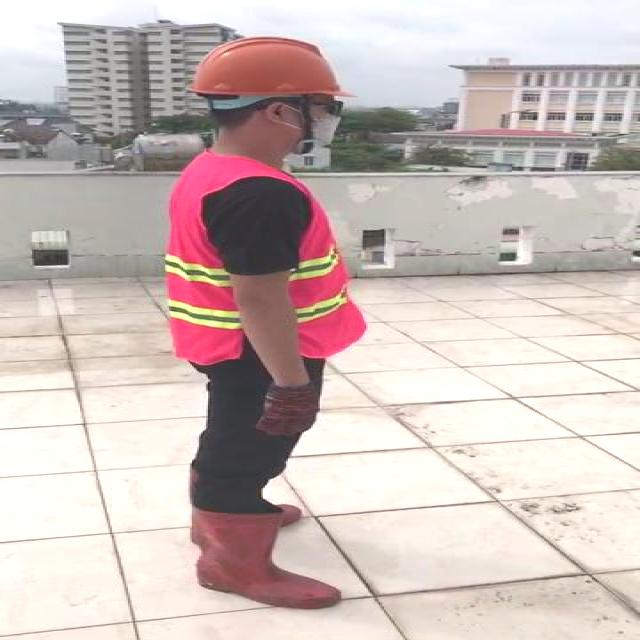boots: (192, 503, 343, 610)
face_mask: (270, 88, 347, 152)
hand_glove: (260, 382, 318, 437)
head_helmet: (190, 32, 352, 100)
person: (142, 34, 388, 609)
vest: (167, 151, 366, 364)
